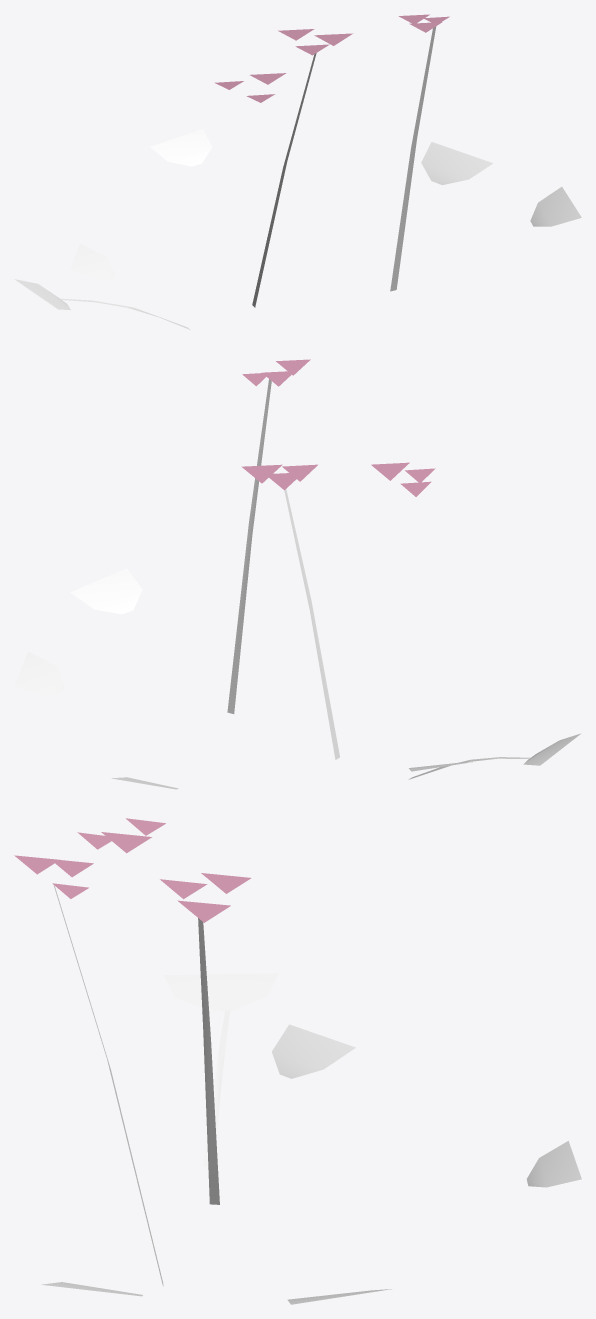
File: RedCloverTuft_LOD2.glb
3 views of the same model, one above another, from view 1: azimuth 30°, elevation 25°; view 2: azimuth 150°, elevation 25°; view 3: azimuth 270°, elevation 25° (orthographic). The views are drawn at different scales.
Parts seen in each view (by area): view 1: RedCloverTuft_LOD2; view 2: RedCloverTuft_LOD2; view 3: RedCloverTuft_LOD2.
Part boxes in pixels (x1,y1,x2,y2): RedCloverTuft_LOD2: (14, 14, 581, 330); RedCloverTuft_LOD2: (14, 359, 581, 789); RedCloverTuft_LOD2: (14, 818, 581, 1304).
Size of the model in its own units: 1.15 by 0.6806 by 0.8308.
